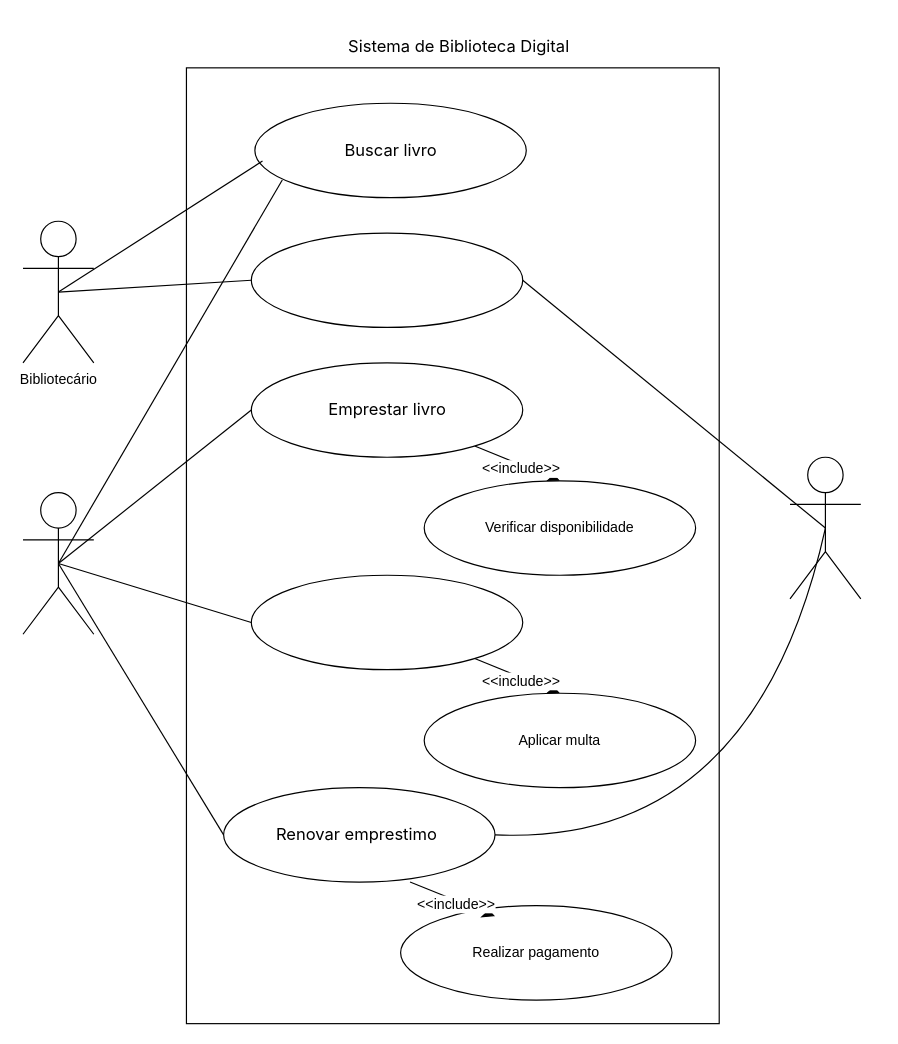
This 898x1044 diagram has some shape labels left out. Here are the shapes that lost their labels. From the top down, the centre of each, then its label:
point (386, 279): Cadastrar usuário
point (825, 527): Sist. Pagamento
point (58, 562): Leitor
point (386, 622): Devolver livro
